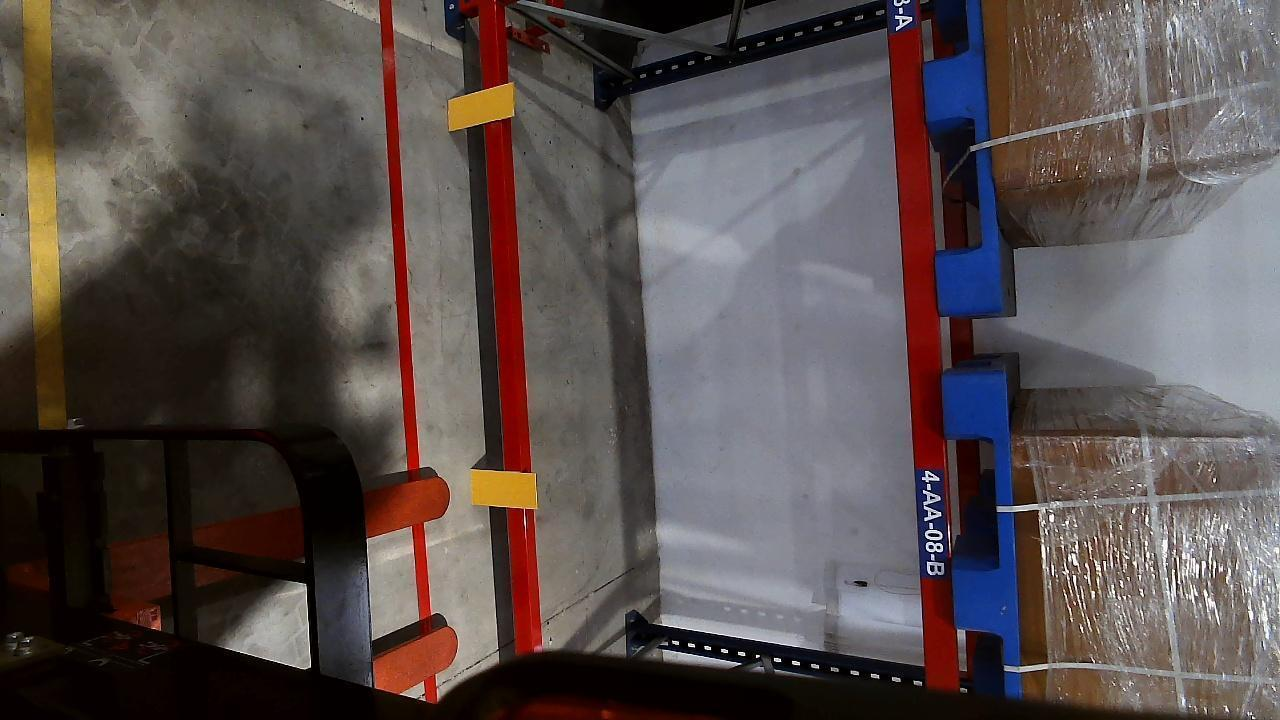red_line: (380, 0, 434, 622)
yellow_line: (21, 1, 67, 428)
